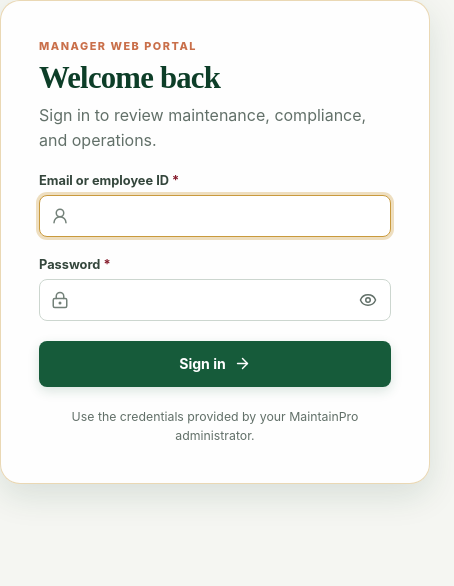
Test case: LoginForm › shows inactive-user handling
Type "inactive" into the field labelled "Email or employee ID *" at (215, 216), box 39,195 -> 391,237
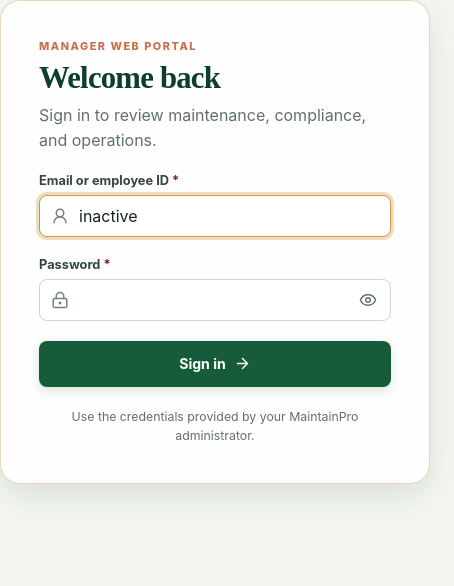
Type "correct-password" into the password field labelled "Password *" at (215, 300), box 39,279 -> 391,321
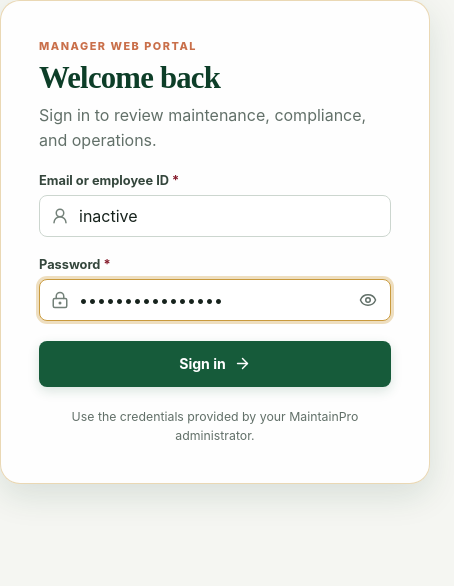
Click the button "Sign in" at (215, 364), box 39,341 -> 391,387
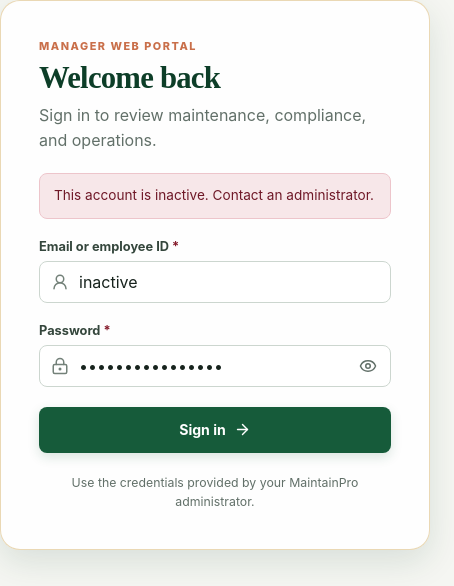
Now the message shows "inactive", box 54,187 -> 374,203
